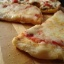pizza: (13, 9, 64, 59)
